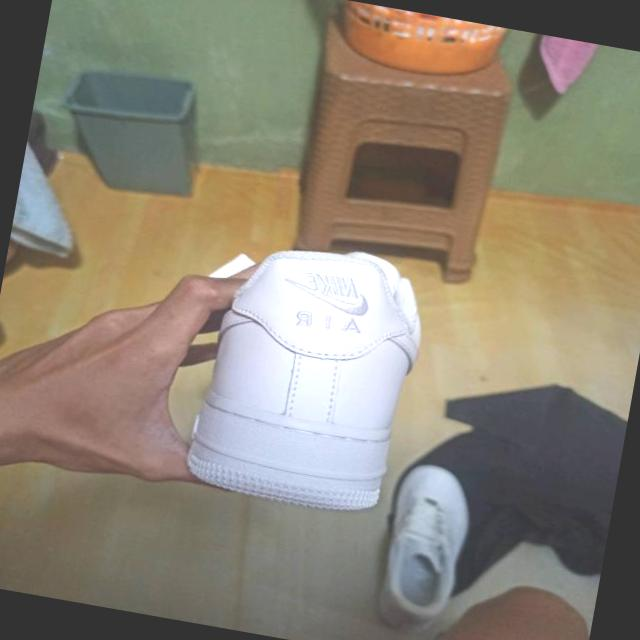nike_fake_airforce: (173, 221, 437, 520)
